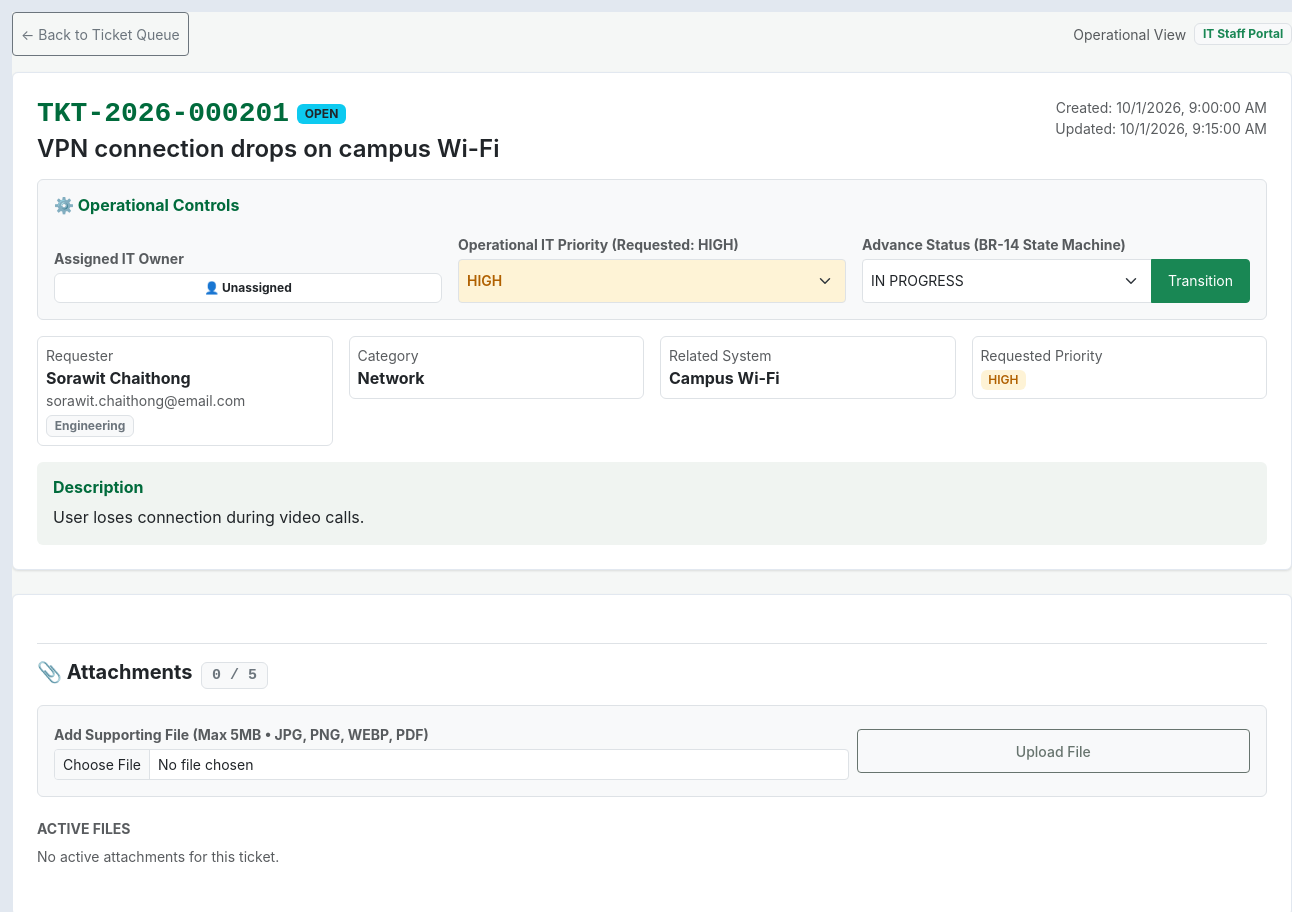
Test: Workflow & Concurrency UI Component Tests (FR-08 / AC-11) › reloads latest ticket data and clears conflict banner when user clicks Reload
Click the button with test id "apply-status-btn".
click(1200, 281)  # box 1151,259 -> 1250,303
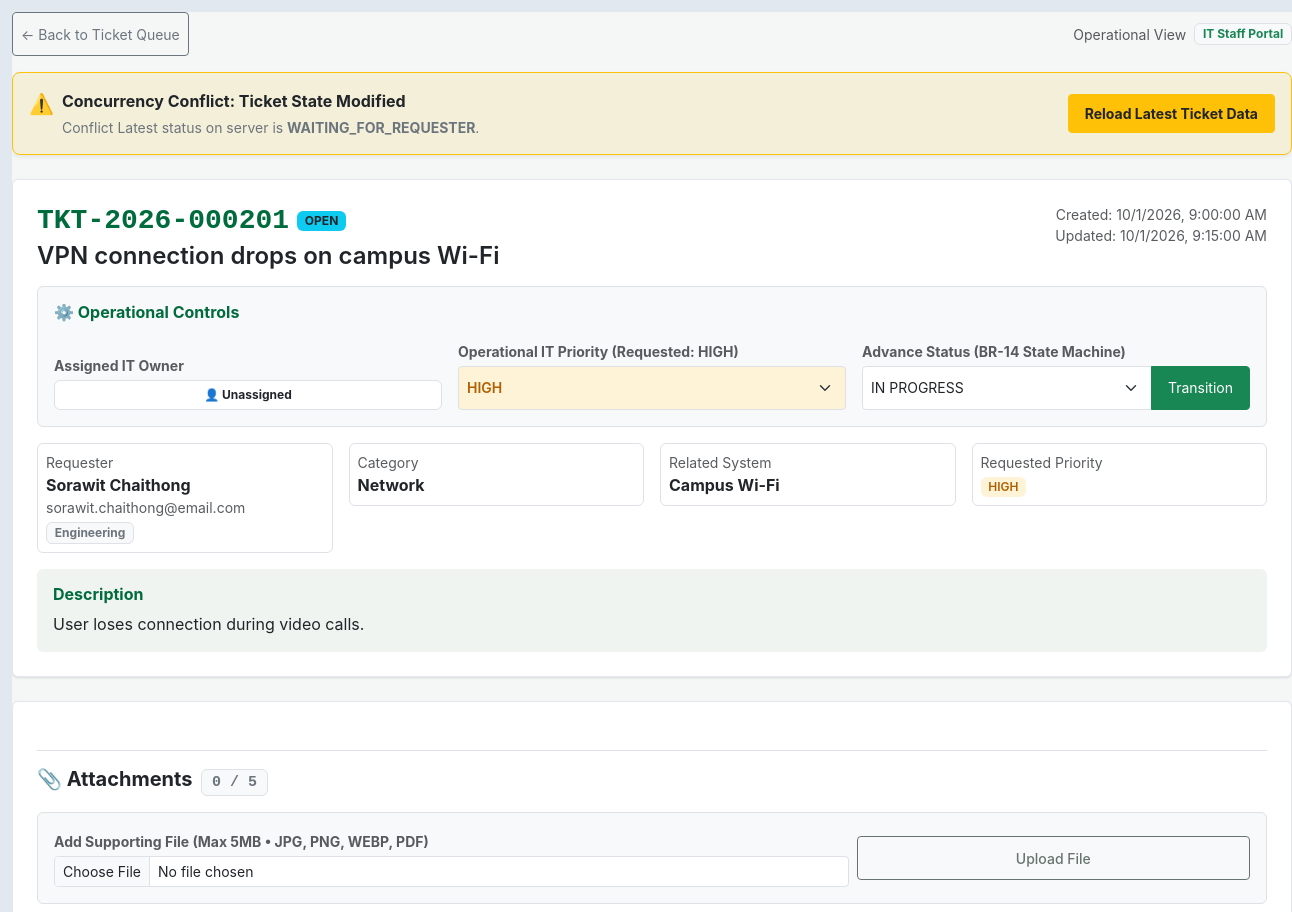
Check: the message with test id "concurrency-conflict-banner" is shown, box 12,72 -> 1291,155
Click the button with test id "reload-ticket-btn".
click(1171, 114)  # box 1068,94 -> 1275,133
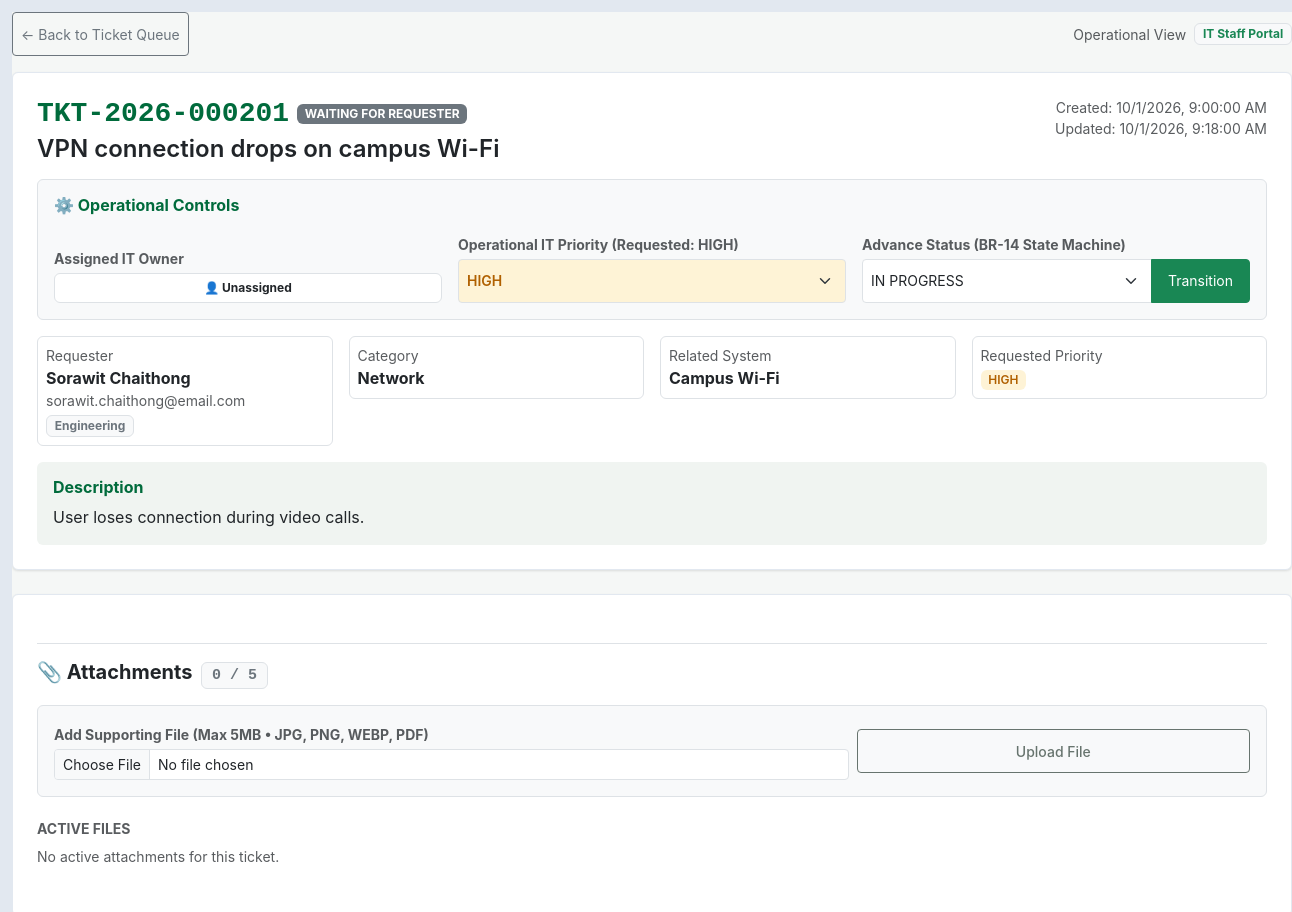
Check: the message with test id "concurrency-conflict-banner" is gone
